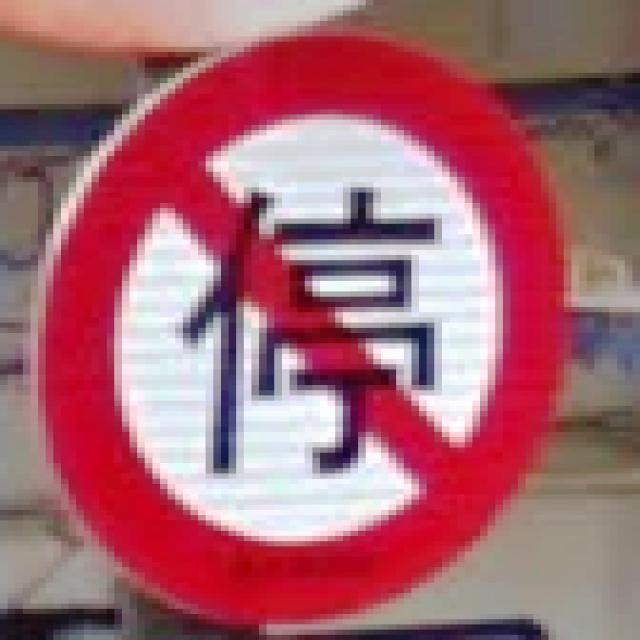nopark: (23, 26, 571, 624)
